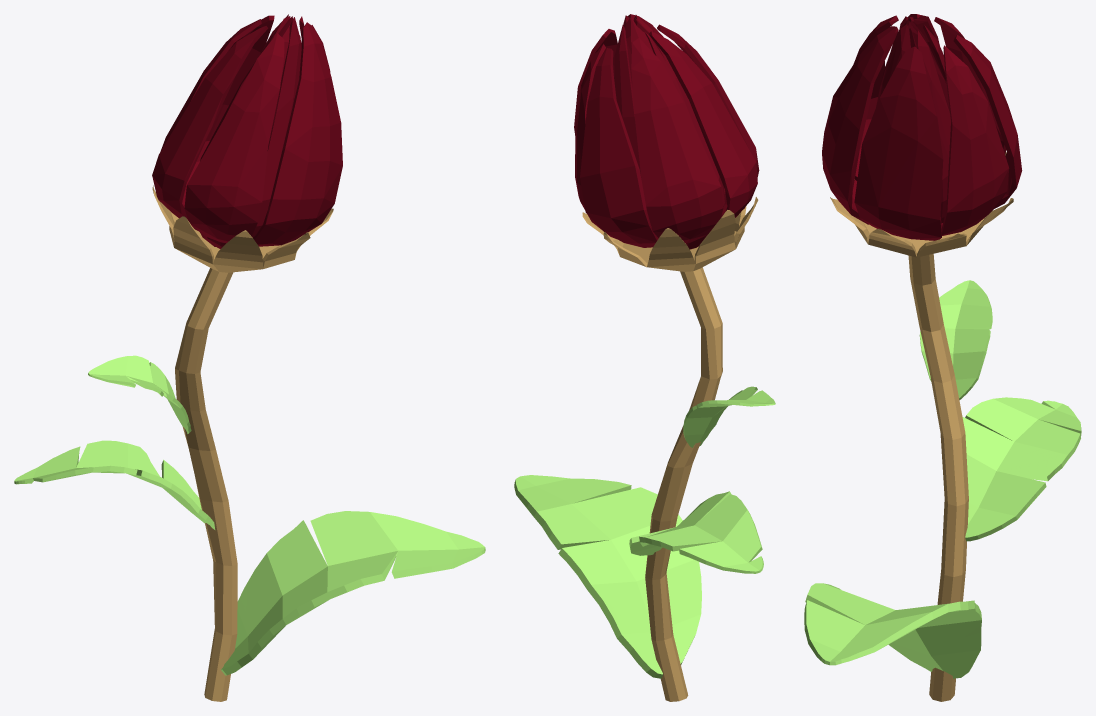
The model's file is Flower_13.fbx.
The picture shows the model from 3 angles, left to right: view 1: azimuth 30°, elevation 25°; view 2: azimuth 150°, elevation 25°; view 3: azimuth 270°, elevation 25°; orthographic projection. The views are drawn at different scales.
Visible parts, largest first — view 1: Flower_13; view 2: Flower_13; view 3: Flower_13.
Part boxes in pixels (x1,y1,x2,y2): Flower_13: (14,14,485,701); Flower_13: (514,14,775,701); Flower_13: (804,14,1081,701).
Bounding box in the file's own units: 38.23 × 68.97 × 24.37.
